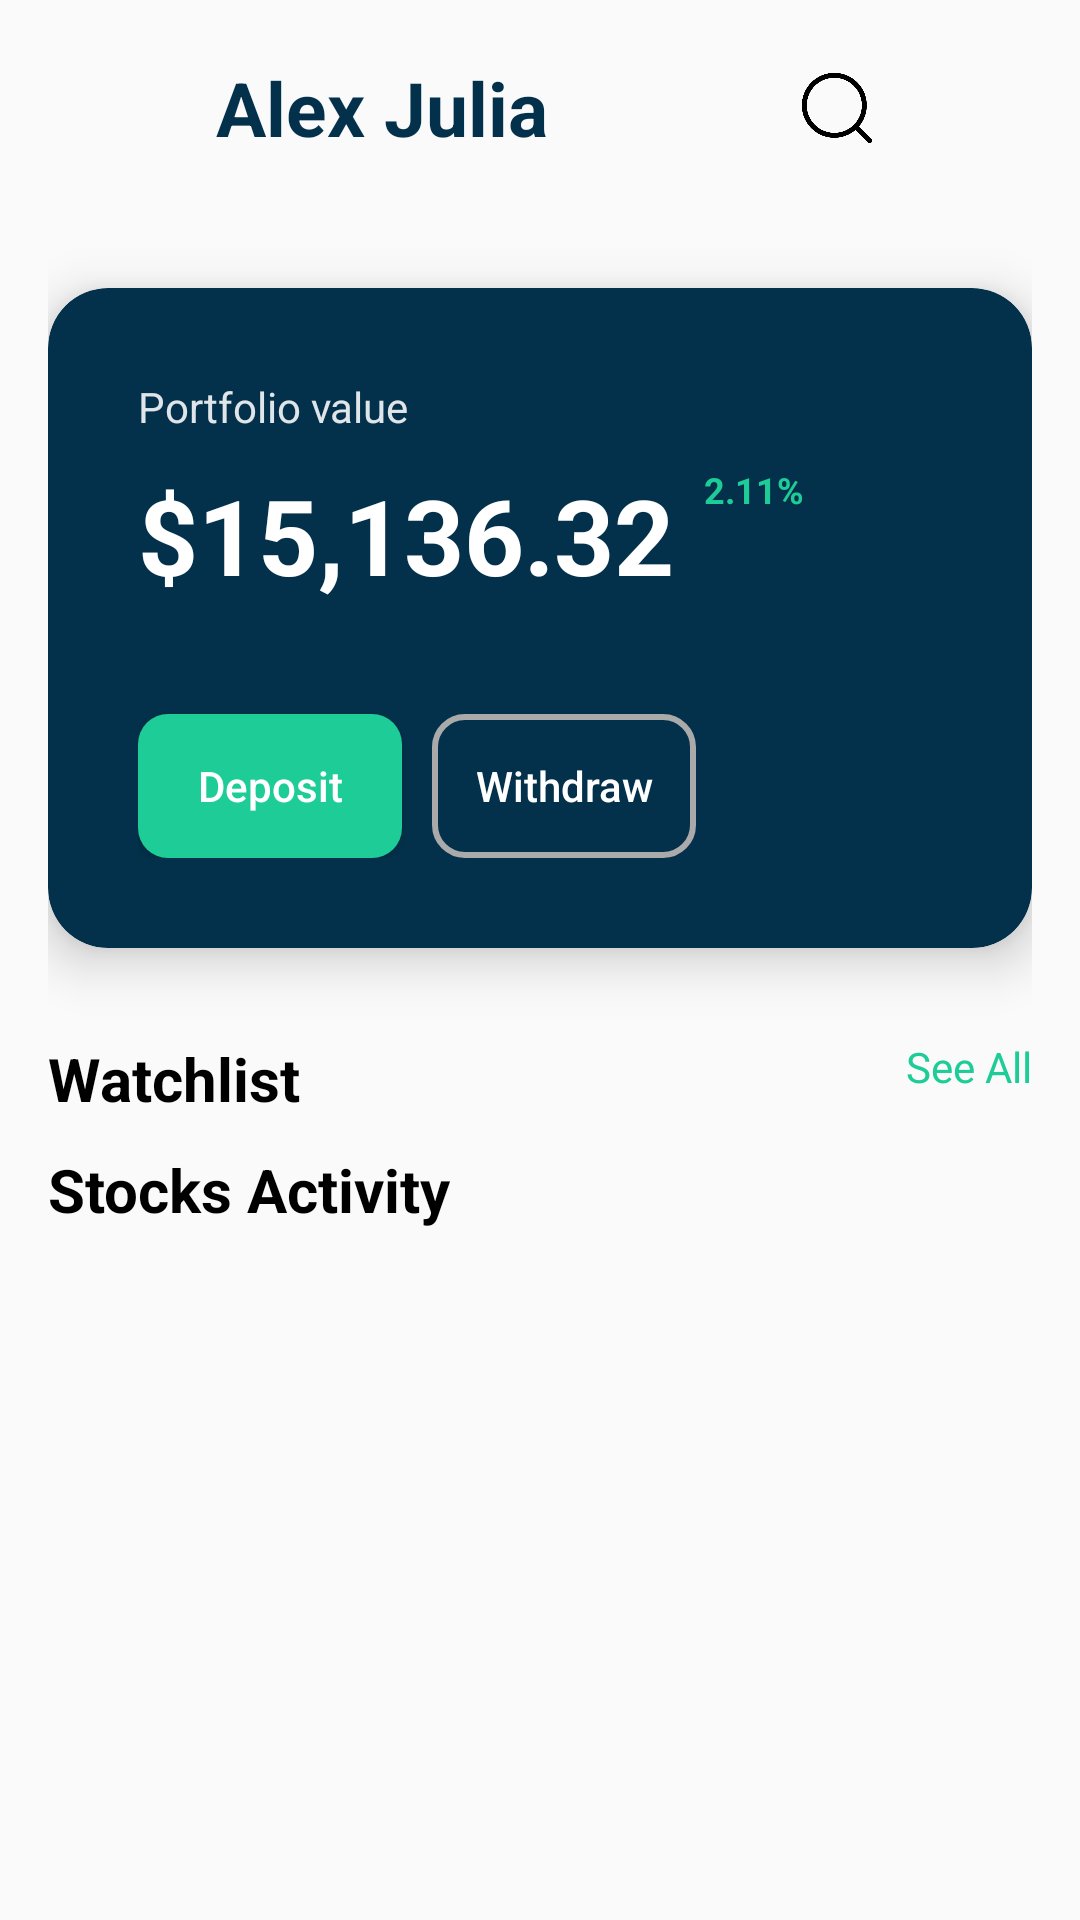

Icon bounding boxes for this 1080px x 1920px phone screenshot, format Rect(x1, y1, x2, y2):
searching: Rect(802, 73, 872, 143)
